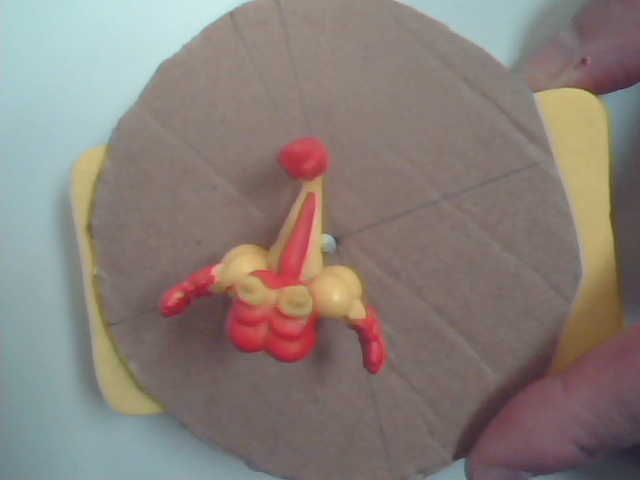magmar: (154, 87, 514, 427)
